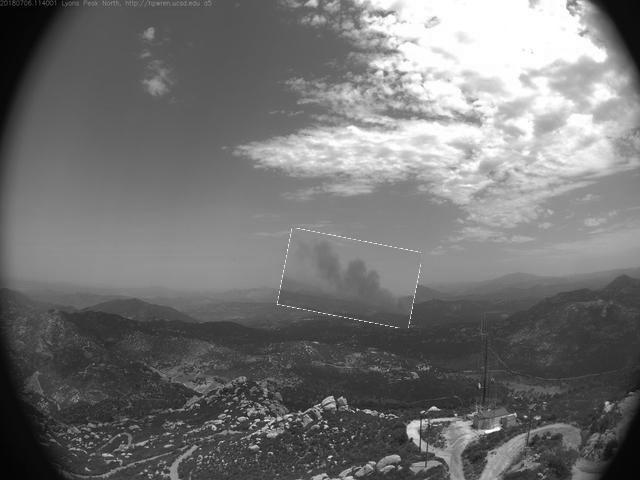smoke: (281, 235, 420, 325)
